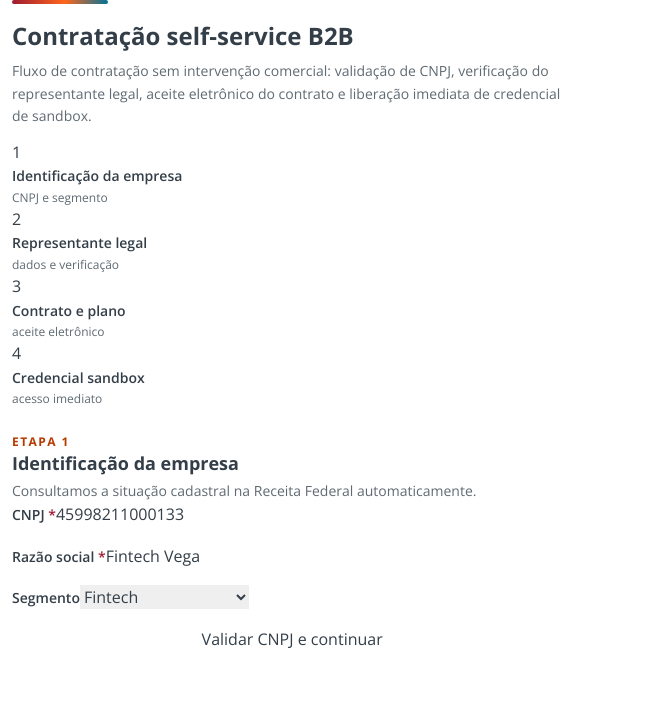
it: interações críticas das telas › contratação B2B bloqueia avanço com CNPJ inválido
Type "123" into the field labelled "CNPJ *". click: (157, 515)
box: [56, 502, 258, 528]
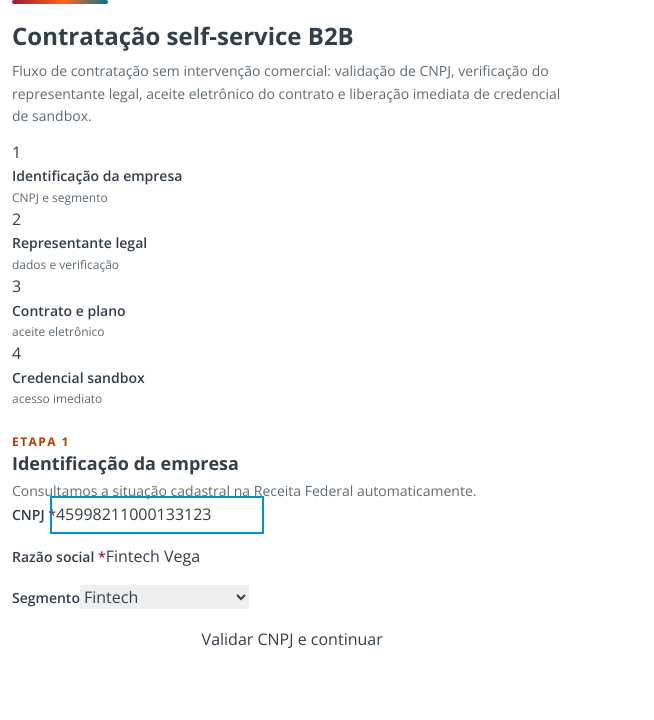
Type "Banco Parceiro" into the field labelled "Razão social *". click: (207, 556)
box: [106, 544, 308, 569]
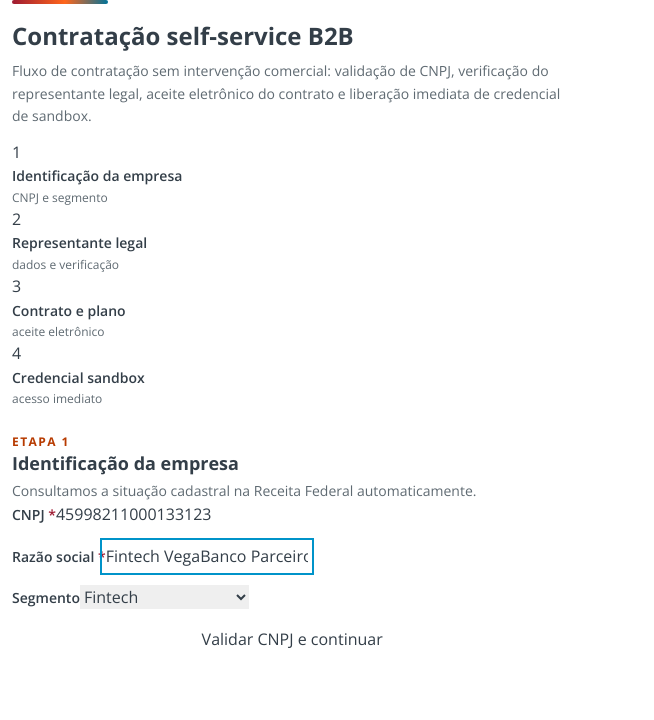
Click the button "Validar CNPJ e continuar". click: (292, 640)
box: [12, 627, 572, 652]
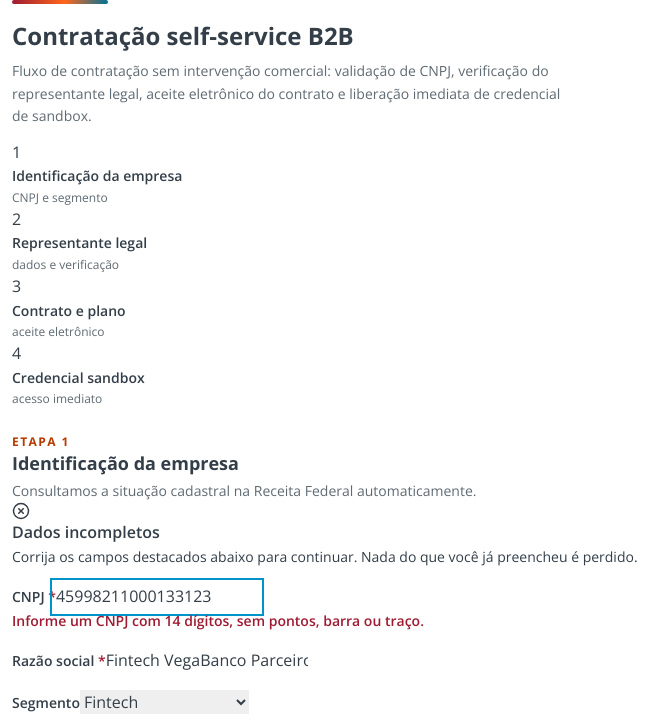
Expected: the field labelled "CNPJ *" is shown, [56, 584, 258, 610]
Expected: the text "Dados incompletos" is shown, [12, 521, 160, 543]
